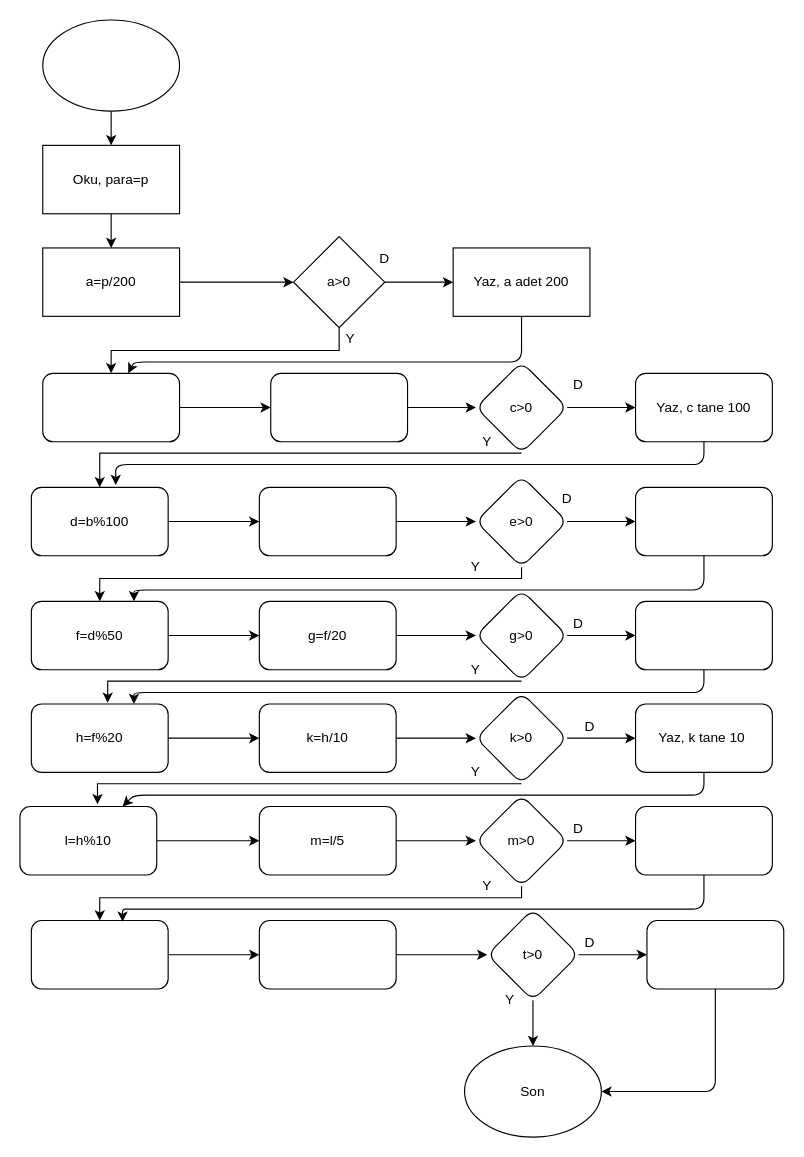
Some shapes in this 804 by 1157 pixel diagram are drawn without their labels. The shapes that lost their labels are listed below. From the top down, each one's centre as x and y in pixels, then its label:
the point at 111,65: Başla
the point at 111,407: b=p%200
the point at 339,407: c=b/100
the point at 327,521: e=d/50
the point at 703,521: Yaz, e tane 50
the point at 703,635: Yaz, g tane 20
the point at 703,840: Yaz, m tane 5
the point at 99,954: n=l%5
the point at 327,954: t=n/1
the point at 715,954: Yaz, t tane 1
